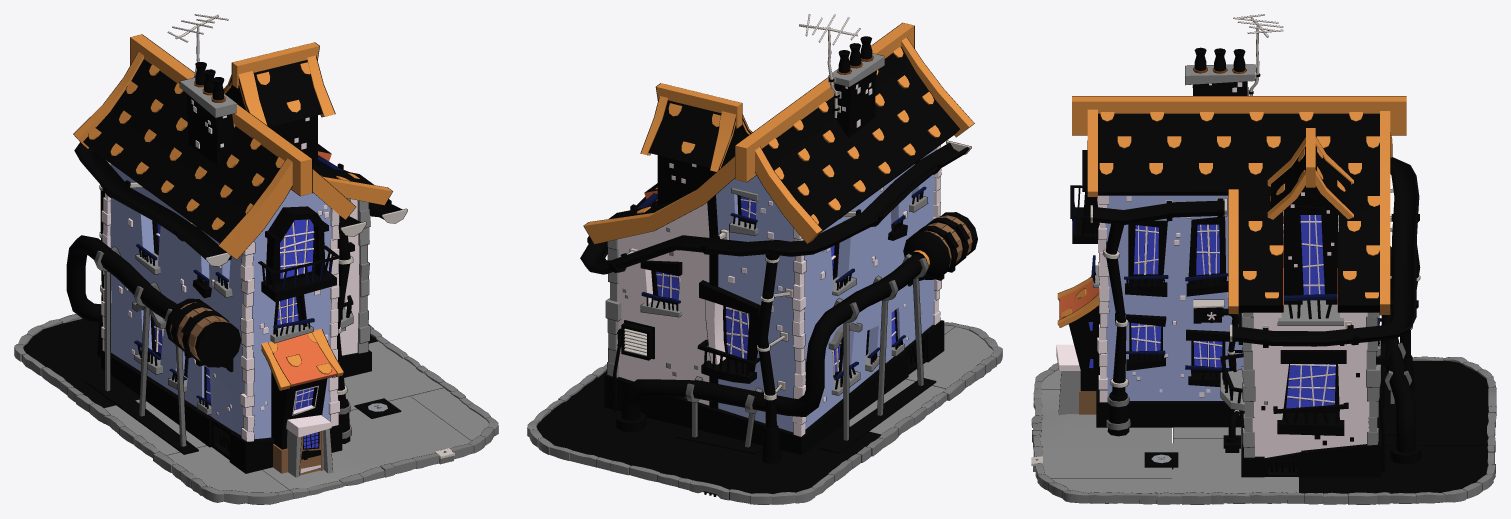
The model's file is House_08_Cell_Shading.fbx.
3 views of the same model, side by side, from view 1: azimuth 30°, elevation 25°; view 2: azimuth 150°, elevation 25°; view 3: azimuth 270°, elevation 25° (orthographic).
Parts seen in each view (by area): view 1: 01_Maison_08.002, 01_Maison_08_Line.012, 01_Maison_08.066, 01_Maison_08.142, 01_Maison_08_Line.019, 01_Maison_08.148, 01_Maison_08_Line.006, 01_Maison_08.052, 01_Maison_08.143, 01_Maison_08_Line.059, 01_Maison_08.054, 01_Maison_08.144 (+30 smaller); view 2: 01_Maison_08.002, 01_Maison_08_Line.012, 01_Maison_08_Line.019, 01_Maison_08.066, 01_Maison_08.014, 01_Maison_08_Line.059, 01_Maison_08.142, 01_Maison_08_Line.006, 01_Maison_08_Line.064, 01_Maison_08.054, 01_Maison_08_Line.056, 01_Maison_08.052 (+30 smaller); view 3: 01_Maison_08_Line.012, 01_Maison_08.066, 01_Maison_08_Line.019, 01_Maison_08.002, 01_Maison_08.014, 01_Maison_08.142, 01_Maison_08.148, 01_Maison_08.031, 01_Maison_08_Line.059, 01_Maison_08_Line.006, 01_Maison_08_Line.064, 01_Maison_08.144 (+29 smaller).
Part boxes in pixels (bbox=[...]): 01_Maison_08.002: bbox=[110, 164, 331, 439]; 01_Maison_08_Line.012: bbox=[83, 59, 373, 387]; 01_Maison_08.066: bbox=[74, 34, 392, 390]; 01_Maison_08.142: bbox=[14, 314, 498, 504]; 01_Maison_08_Line.019: bbox=[66, 142, 402, 321]; 01_Maison_08.148: bbox=[263, 396, 471, 489]; 01_Maison_08_Line.006: bbox=[101, 350, 371, 473]; 01_Maison_08.052: bbox=[101, 160, 339, 441]; 01_Maison_08.143: bbox=[167, 388, 489, 492]; 01_Maison_08_Line.059: bbox=[23, 319, 139, 407]; 01_Maison_08.054: bbox=[94, 182, 407, 446]; 01_Maison_08.144: bbox=[344, 341, 443, 410]; 01_Maison_08.002: bbox=[716, 150, 934, 432]; 01_Maison_08_Line.012: bbox=[609, 47, 959, 232]; 01_Maison_08_Line.019: bbox=[580, 142, 969, 432]; 01_Maison_08.066: bbox=[584, 23, 973, 244]; 01_Maison_08.014: bbox=[617, 202, 710, 405]; 01_Maison_08_Line.059: bbox=[617, 423, 880, 493]; 01_Maison_08.142: bbox=[527, 322, 1002, 504]; 01_Maison_08_Line.006: bbox=[604, 320, 944, 454]; 01_Maison_08_Line.064: bbox=[536, 370, 668, 460]; 01_Maison_08.054: bbox=[627, 141, 971, 447]; 01_Maison_08_Line.056: bbox=[583, 22, 974, 454]; 01_Maison_08.052: bbox=[792, 145, 941, 436]; 01_Maison_08_Line.012: bbox=[1059, 113, 1379, 319]; 01_Maison_08.066: bbox=[1057, 96, 1406, 327]; 01_Maison_08_Line.019: bbox=[1092, 157, 1421, 464]; 01_Maison_08.002: bbox=[1105, 195, 1243, 400]; 01_Maison_08.014: bbox=[1251, 312, 1369, 467]; 01_Maison_08.142: bbox=[1031, 357, 1496, 504]; 01_Maison_08.148: bbox=[1040, 389, 1171, 478]; 01_Maison_08.031: bbox=[1131, 215, 1335, 408]; 01_Maison_08_Line.059: bbox=[1380, 360, 1488, 445]; 01_Maison_08_Line.006: bbox=[1096, 389, 1380, 477]; 01_Maison_08_Line.064: bbox=[1299, 446, 1488, 499]; 01_Maison_08.144: bbox=[1173, 439, 1298, 499].
Bounding box in the file's own units: 1378 × 1760 × 1925.
